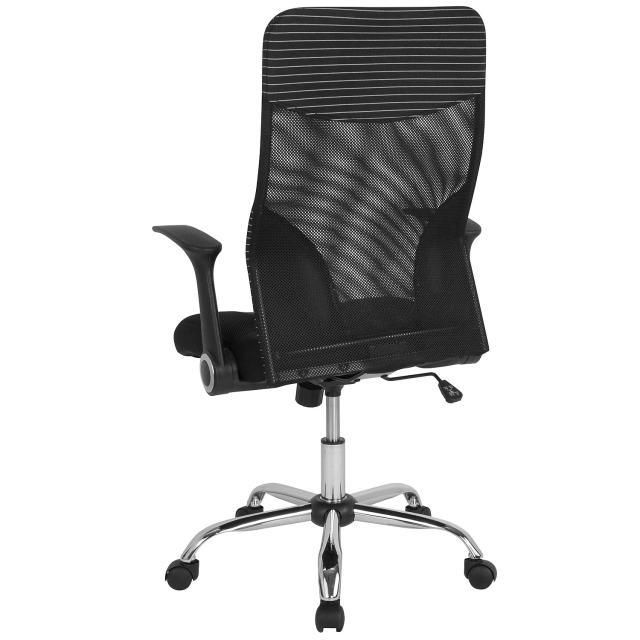chair: (83, 4, 558, 638)
